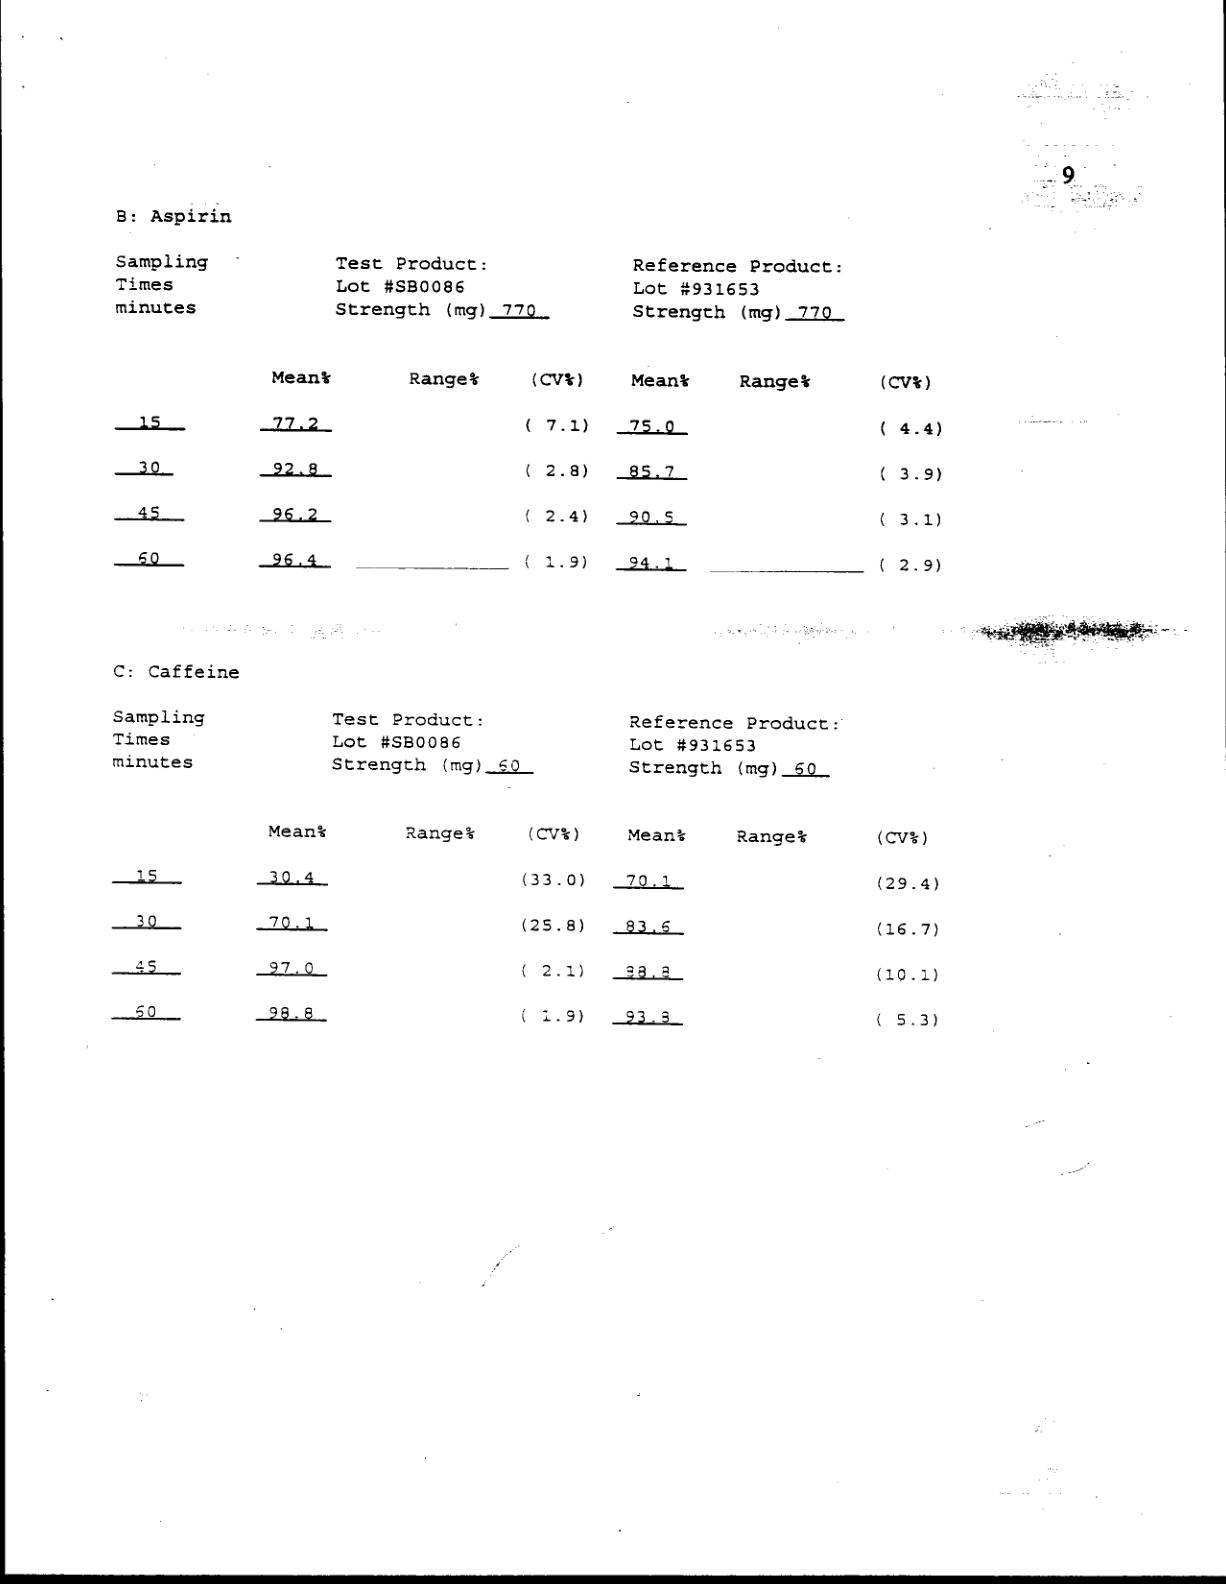nolines: (109, 363, 945, 573), (102, 824, 942, 1029), (107, 706, 839, 782), (111, 249, 848, 323)
